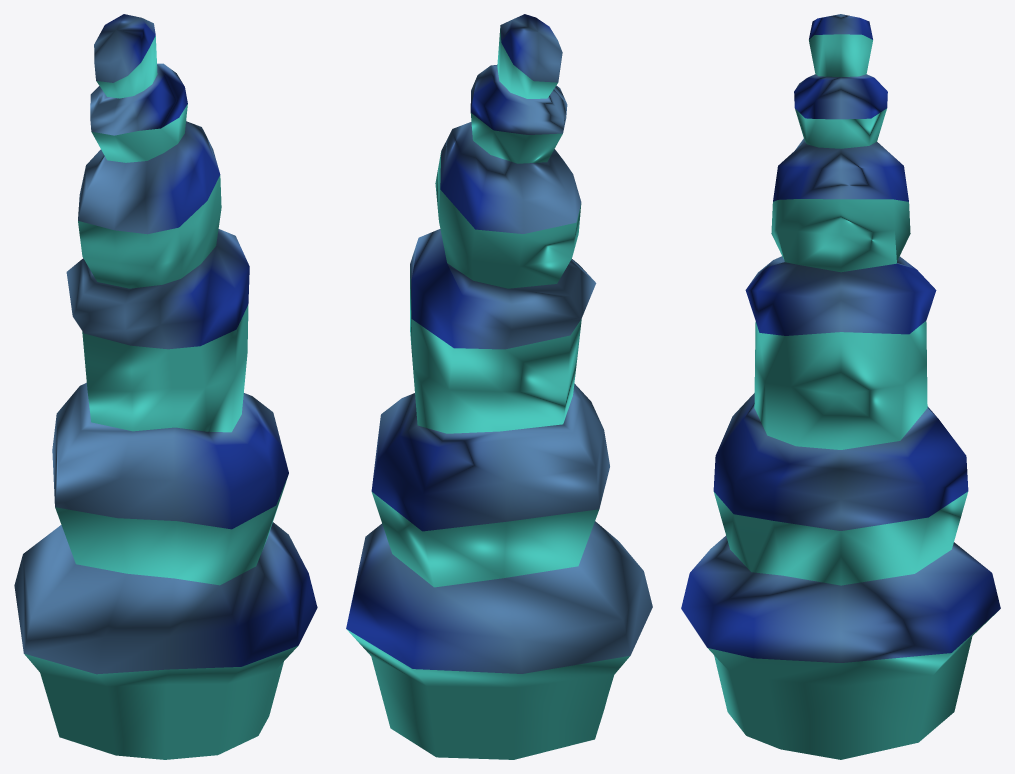
Rendered from RaveCaveTowerC.glb.
3 renders of one model, left to right at view 1: azimuth 30°, elevation 25°; view 2: azimuth 150°, elevation 25°; view 3: azimuth 270°, elevation 25°, orthographic. The views are drawn at different scales.
Visible parts, largest first — view 1: RaveCaveTowerC; view 2: RaveCaveTowerC; view 3: RaveCaveTowerC.
Boxes of the visible parts, left/top/right/bottom form: RaveCaveTowerC: left=14, top=14, right=317, bottom=759; RaveCaveTowerC: left=346, top=14, right=652, bottom=759; RaveCaveTowerC: left=681, top=14, right=1000, bottom=759.
Bounding box in the file's own units: 4.26 × 10.56 × 4.48.
